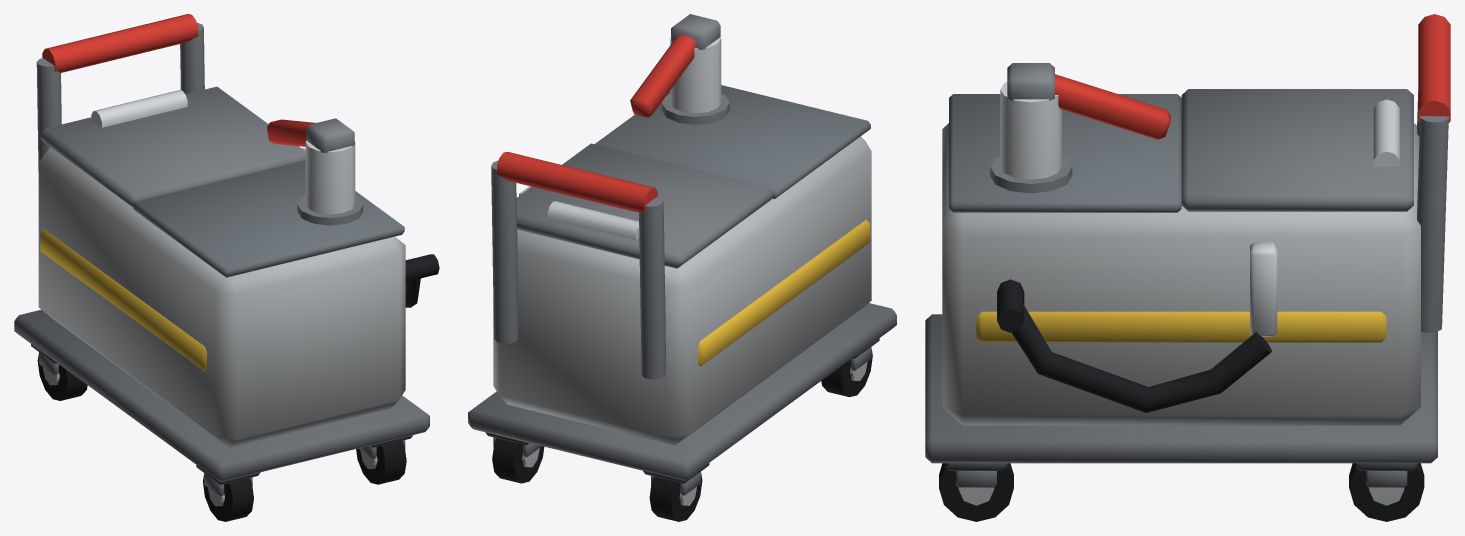
Rendered from SM_UsedOil_Caddy_01.glb.
The picture shows the model from 3 angles, left to right: view 1: azimuth 30°, elevation 25°; view 2: azimuth 150°, elevation 25°; view 3: azimuth 270°, elevation 25°; orthographic projection. The views are drawn at different scales.
Parts seen in each view (by area): view 1: SM_UsedOil_Caddy_01; view 2: SM_UsedOil_Caddy_01; view 3: SM_UsedOil_Caddy_01.
Boxes of the visible parts, <box> form: SM_UsedOil_Caddy_01: <box>14,14,439,521</box>; SM_UsedOil_Caddy_01: <box>468,14,896,521</box>; SM_UsedOil_Caddy_01: <box>925,14,1450,521</box>.
Bounding box in the file's own units: 0.525 × 0.69 × 0.7688.
Materials: 1 (1 with a texture image).
